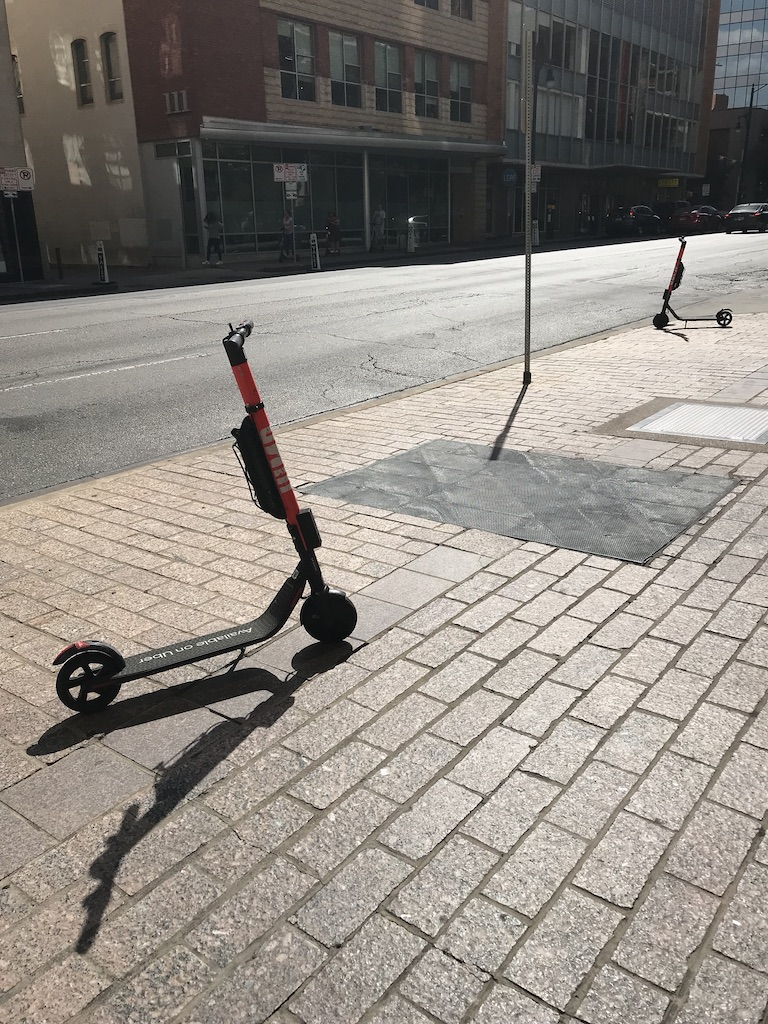scooter: (55, 317, 356, 718), (653, 236, 733, 329)
